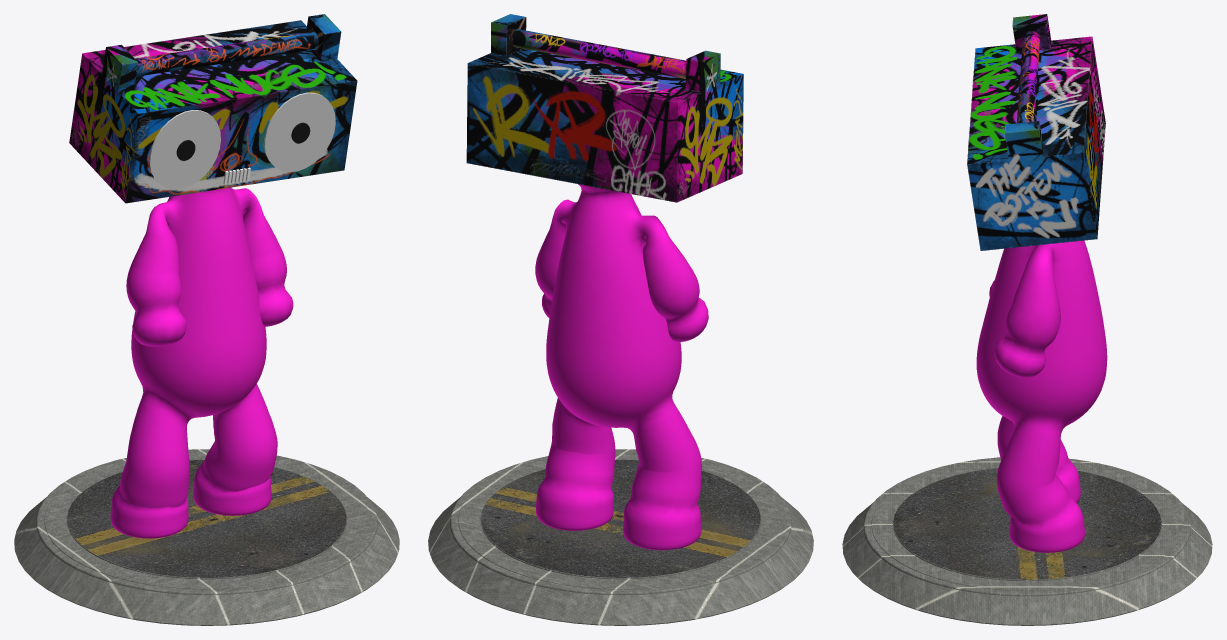
Rendered from 184_sanitized.glb.
The picture shows the model from 3 angles, left to right: view 1: azimuth 30°, elevation 25°; view 2: azimuth 150°, elevation 25°; view 3: azimuth 270°, elevation 25°; orthographic projection. The views are drawn at different scales.
Parts seen in each view (by area): view 1: BBody; view 2: BBody; view 3: BBody.
Boxes of the visible parts, <box> form: BBody: <box>14,14,399,625</box>; BBody: <box>428,14,813,625</box>; BBody: <box>842,14,1212,625</box>.
Size of the model in its own units: 1.45 by 2.12 by 1.45.
7 materials, 3 textured.
